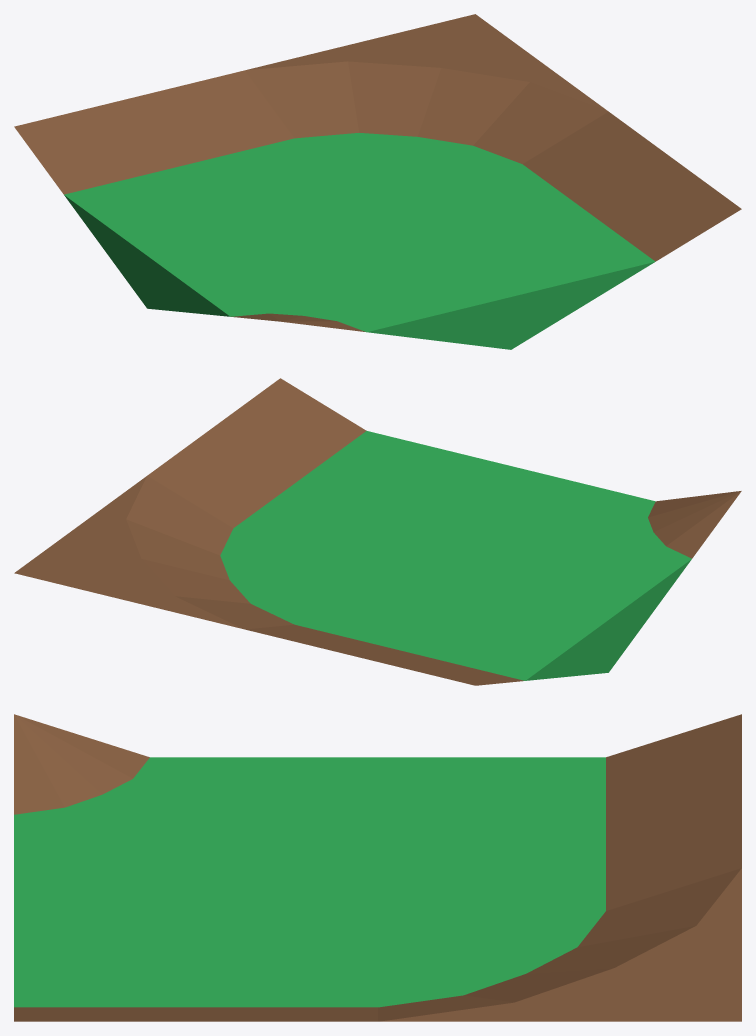
File: SPW_Terrain_River_Corner.gltf
3 renders of one model, top to bottom at view 1: azimuth 30°, elevation 25°; view 2: azimuth 150°, elevation 25°; view 3: azimuth 270°, elevation 25°, orthographic. The views are drawn at different scales.
Visible parts, largest first — view 1: SPW_Terrain_River_Corner; view 2: SPW_Terrain_River_Corner; view 3: SPW_Terrain_River_Corner.
Boxes of the visible parts, x1,y1,x2,y2 form: SPW_Terrain_River_Corner: (14, 14, 741, 349); SPW_Terrain_River_Corner: (14, 378, 741, 685); SPW_Terrain_River_Corner: (14, 714, 741, 1021).
Size of the model in its own units: 1575 by 276 by 1575.
Materials: 1 (1 with a texture image).
